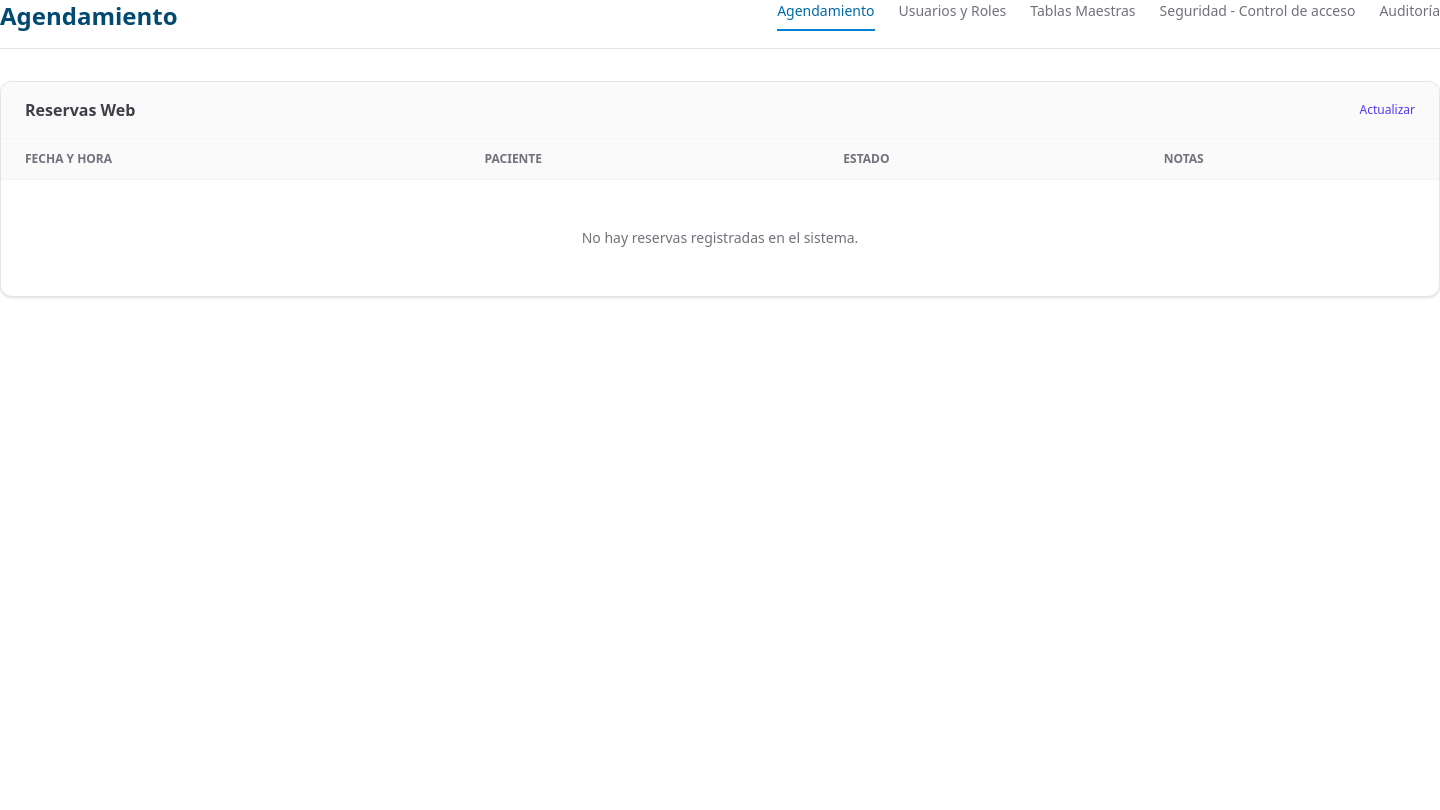
Scenario: DashboardContent - Password Validation › should validate password with less than 8 characters
The width and height of the screenshot is (1440, 810).
Click the button "Usuarios y Roles" at [952, 16], box [898,1,1006,31]
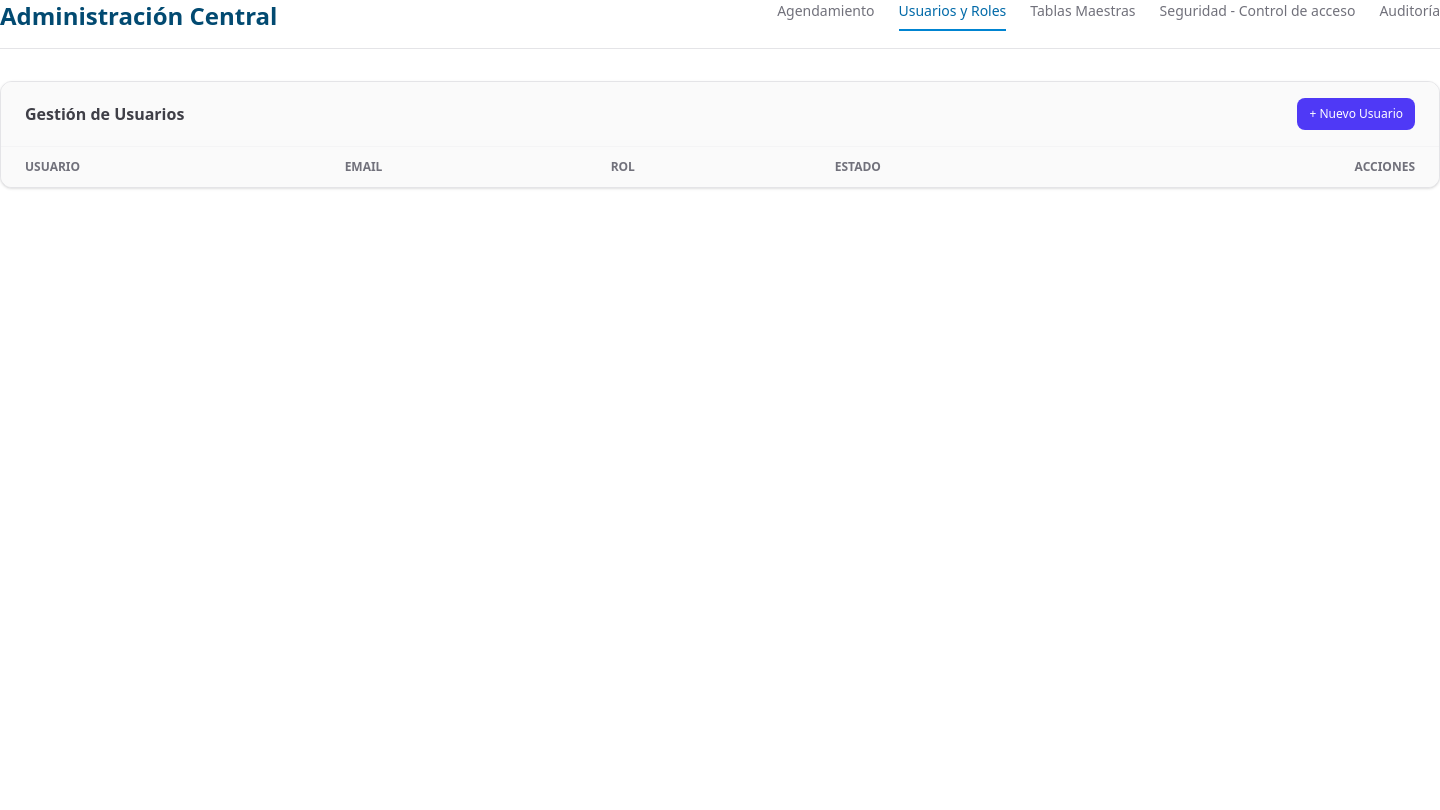
Click the button "+ Nuevo Usuario" at [1356, 114], box [1298,98,1415,130]
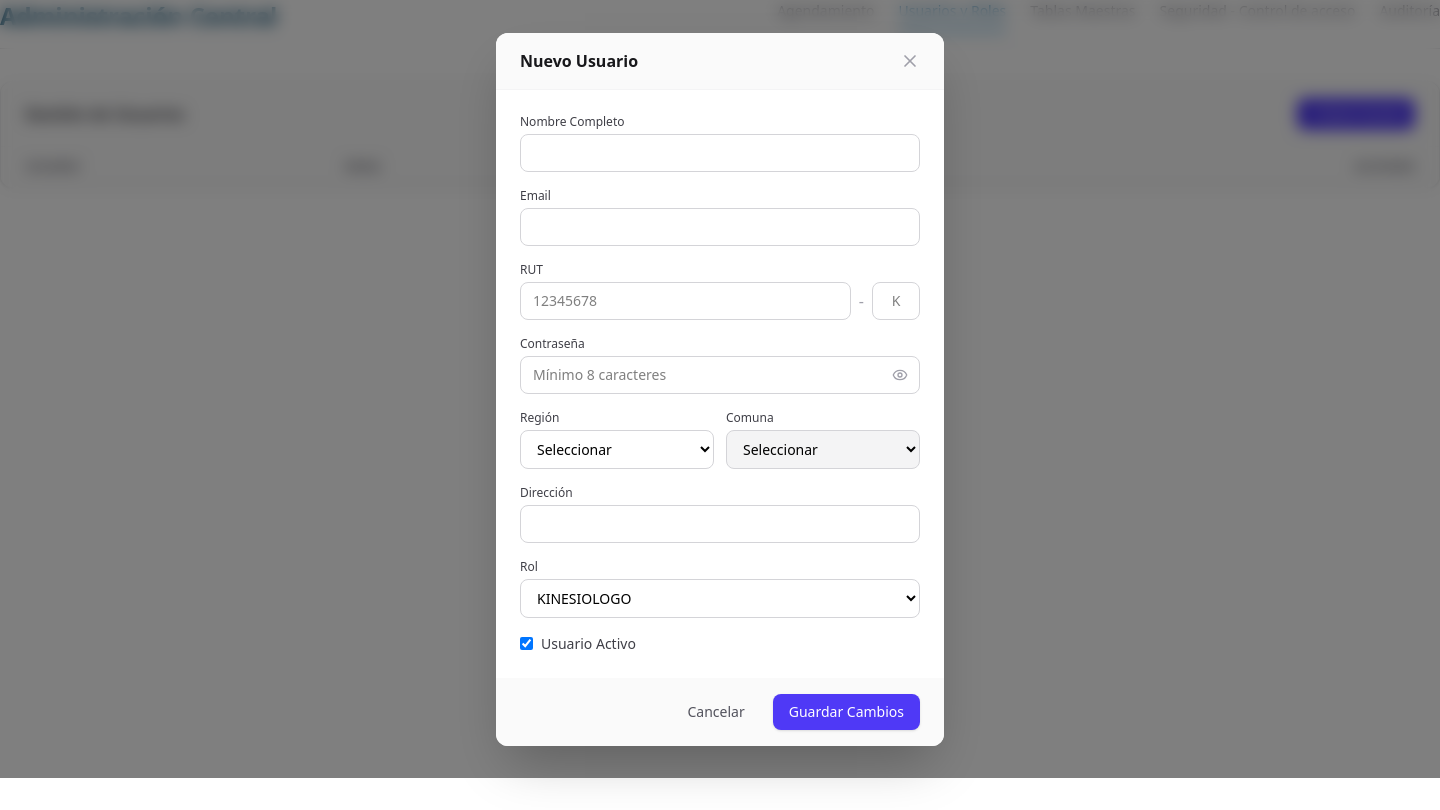
Type "Test1!" into the password field labelled "Contraseña" at [720, 374], box [520,356,920,394]
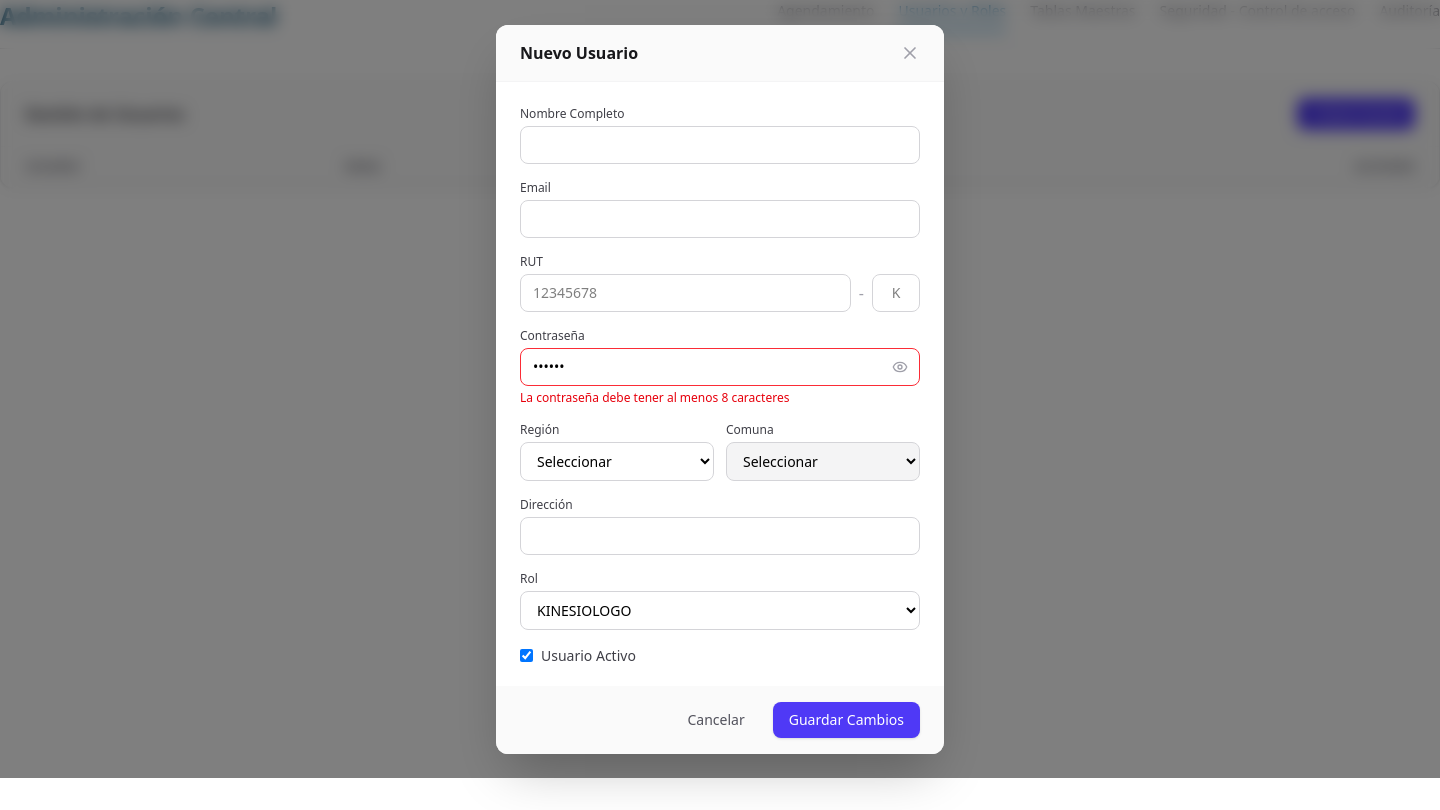
expect the text "La contraseña debe tener al menos 8 caracteres" is shown: met, box [520,388,789,406]
